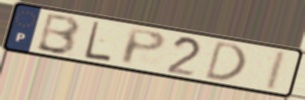2: (163, 36, 205, 78)
B: (33, 12, 83, 57)
D: (202, 39, 249, 83)
I: (262, 48, 290, 93)
L: (83, 20, 114, 63)
P: (119, 26, 169, 68)
